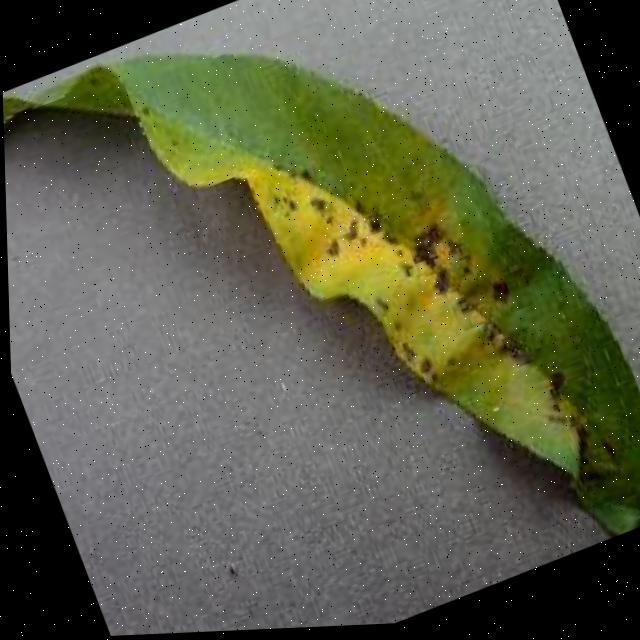Bacterial_spot: (148, 63, 605, 565)
